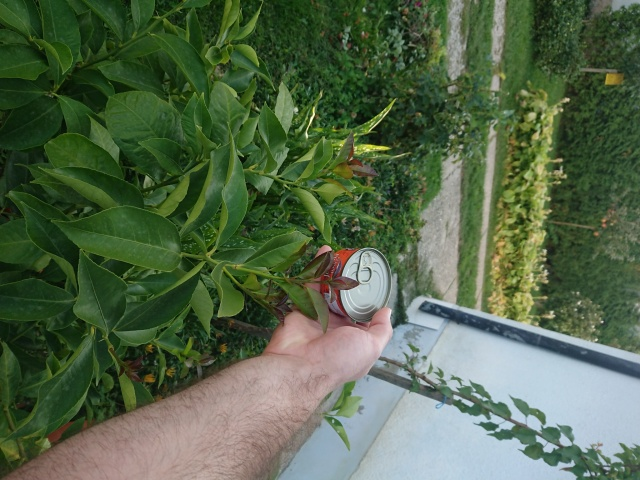Gavrilovic Pork Liver Pate 100g: (318, 245, 394, 324)
